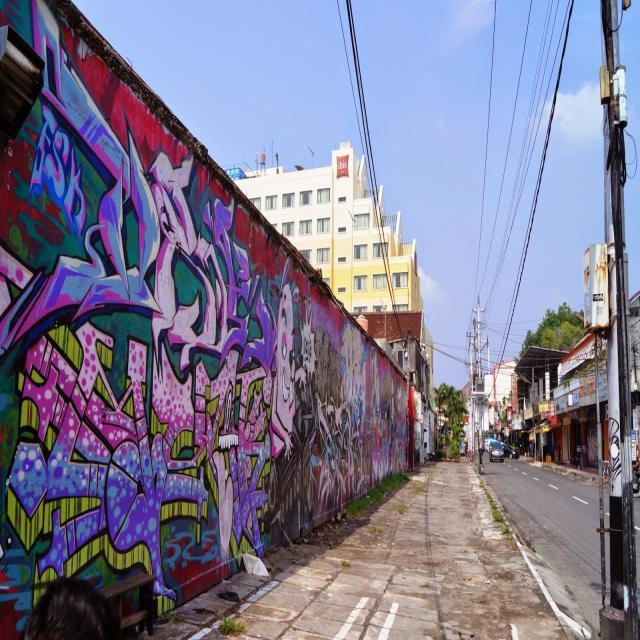-: (1, 3, 274, 587), (278, 256, 360, 526), (372, 348, 408, 486)
